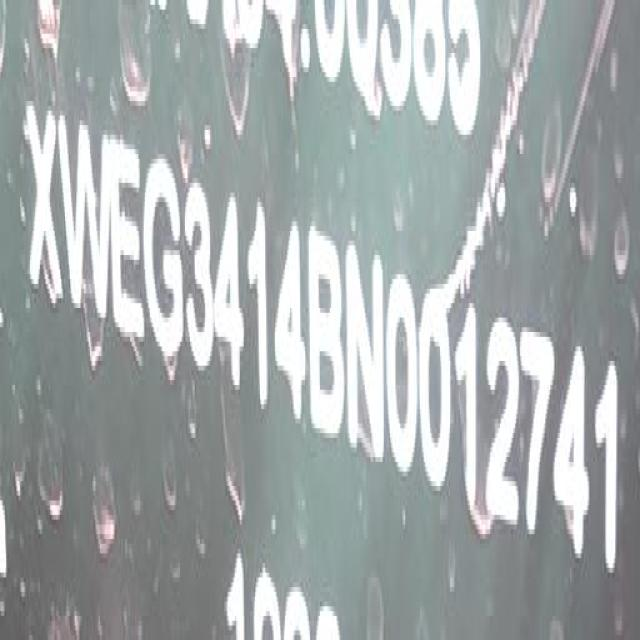0: (418, 280, 452, 510), (385, 264, 420, 483)
1: (454, 301, 482, 513), (596, 355, 621, 581), (246, 205, 272, 413)
2: (484, 298, 520, 533)
3: (183, 171, 216, 378)
4: (553, 350, 590, 554), (213, 185, 247, 396), (275, 221, 305, 424)
7: (520, 324, 554, 551)
B: (307, 223, 343, 447)
E: (108, 135, 144, 353)
G: (140, 155, 185, 365)
N: (345, 242, 386, 470)
W: (58, 105, 112, 335)
X: (23, 89, 65, 319)
